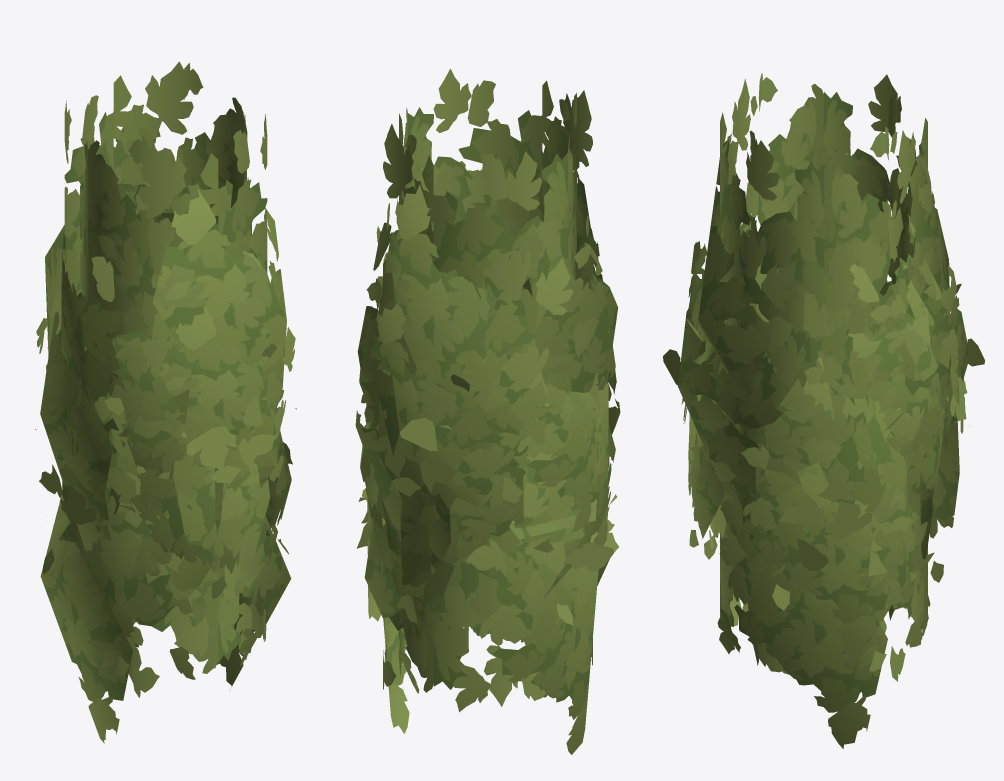
Rendered from SM_Env_Vine_14.fbx.
3 views of the same model, side by side, from view 1: azimuth 30°, elevation 25°; view 2: azimuth 150°, elevation 25°; view 3: azimuth 270°, elevation 25° (orthographic). The views are drawn at different scales.
Parts seen in each view (by area): view 1: SM_Env_Vine_14; view 2: SM_Env_Vine_14; view 3: SM_Env_Vine_14.
Boxes of the visible parts, box(x1,y1,x2,y2) form: SM_Env_Vine_14: box(35, 61, 296, 743); SM_Env_Vine_14: box(355, 69, 620, 754); SM_Env_Vine_14: box(663, 73, 984, 748).
Bounding box in the file's own units: 140 × 329 × 147.
